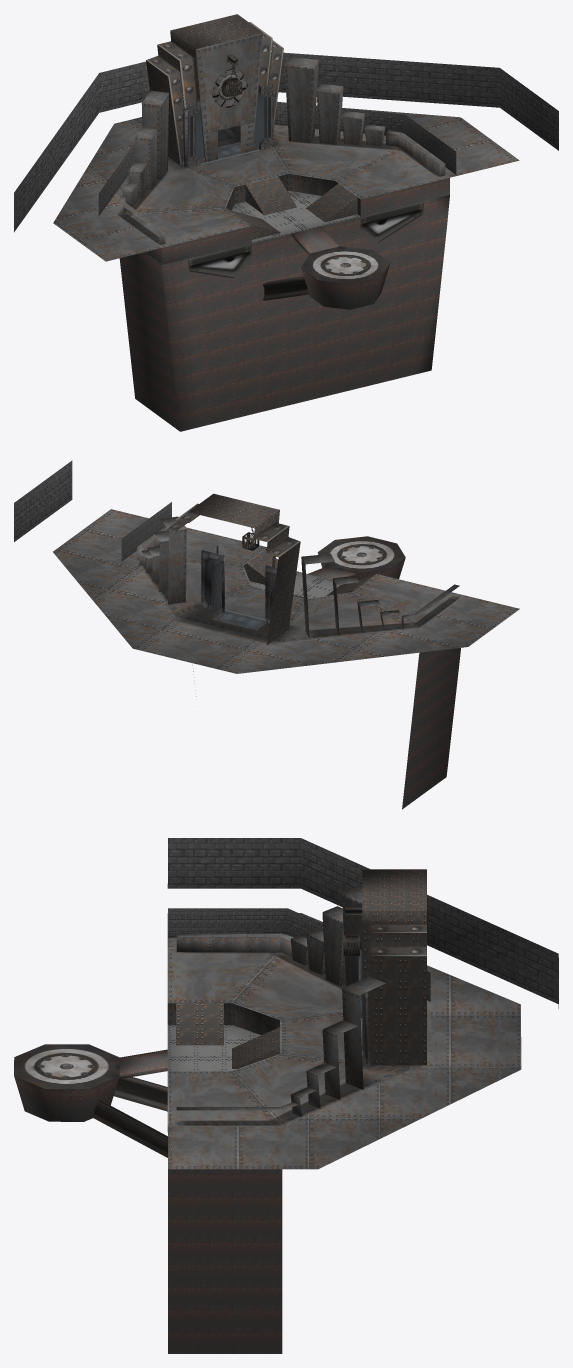
The model's file is sellbot_vp.glb.
3 renders of one model, top to bottom at view 1: azimuth 30°, elevation 25°; view 2: azimuth 150°, elevation 25°; view 3: azimuth 270°, elevation 25°, orthographic. The views are drawn at different scales.
Visible parts, largest first — view 1: polySurface127, backdrop, floor, extFloor, elevatorEntrance1, polySurface139, polySurface73 (×2), middrop, polySurface82 (×2), polySurface45, ram_floor (×2), polySurface44 (+11 smaller); view 2: extFloor, floor, polySurface127, elevatorEntrance1, backdrop, polySurface45, polySurface73 (×2), pPlane10, middrop, right-door, midFloor, pPlane6 (+4 smaller); view 3: extFloor, polySurface127, floor, backdrop, elevatorEntrance1, middrop, polySurface45, polySurface73 (×2), ram_floor (×2), polySurface44, polySurface82 (×2), midFloor (+7 smaller).
Boxes of the visible parts, x1,y1,x2,y2 form: polySurface127: [119, 195, 449, 431]; backdrop: [14, 52, 558, 232]; floor: [117, 131, 449, 247]; extFloor: [53, 108, 519, 261]; elevatorEntrance1: [146, 14, 283, 165]; polySurface139: [195, 33, 262, 134]; polySurface73 (×2): [141, 57, 318, 179]; middrop: [98, 101, 456, 216]; polySurface82 (×2): [134, 84, 343, 189]; polySurface45: [301, 246, 389, 283]; ram_floor (×2): [245, 176, 357, 221]; polySurface44: [301, 263, 390, 309]; extFloor: [53, 509, 519, 673]; floor: [135, 527, 464, 642]; polySurface127: [192, 648, 460, 809]; elevatorEntrance1: [165, 493, 300, 644]; backdrop: [14, 460, 72, 541]; polySurface45: [318, 536, 405, 573]; polySurface73 (×2): [160, 516, 334, 638]; pPlane10: [176, 604, 298, 644]; middrop: [121, 502, 171, 561]; right-door: [201, 550, 224, 612]; midFloor: [250, 571, 343, 598]; pPlane6: [309, 623, 415, 637]; extFloor: [167, 913, 521, 1169]; polySurface127: [168, 1169, 282, 1353]; floor: [167, 947, 409, 1126]; backdrop: [167, 838, 558, 1008]; elevatorEntrance1: [362, 869, 426, 1065]; middrop: [168, 908, 430, 1001]; polySurface45: [14, 1044, 119, 1088]; polySurface73 (×2): [342, 886, 385, 1089]; ram_floor (×2): [176, 1003, 279, 1068]; polySurface44: [14, 1076, 119, 1121]; polySurface82 (×2): [322, 906, 357, 1099]; midFloor: [167, 1025, 260, 1070].
Bounding box in the file's own units: 541 × 319 × 408.
23 materials, 23 textured.
